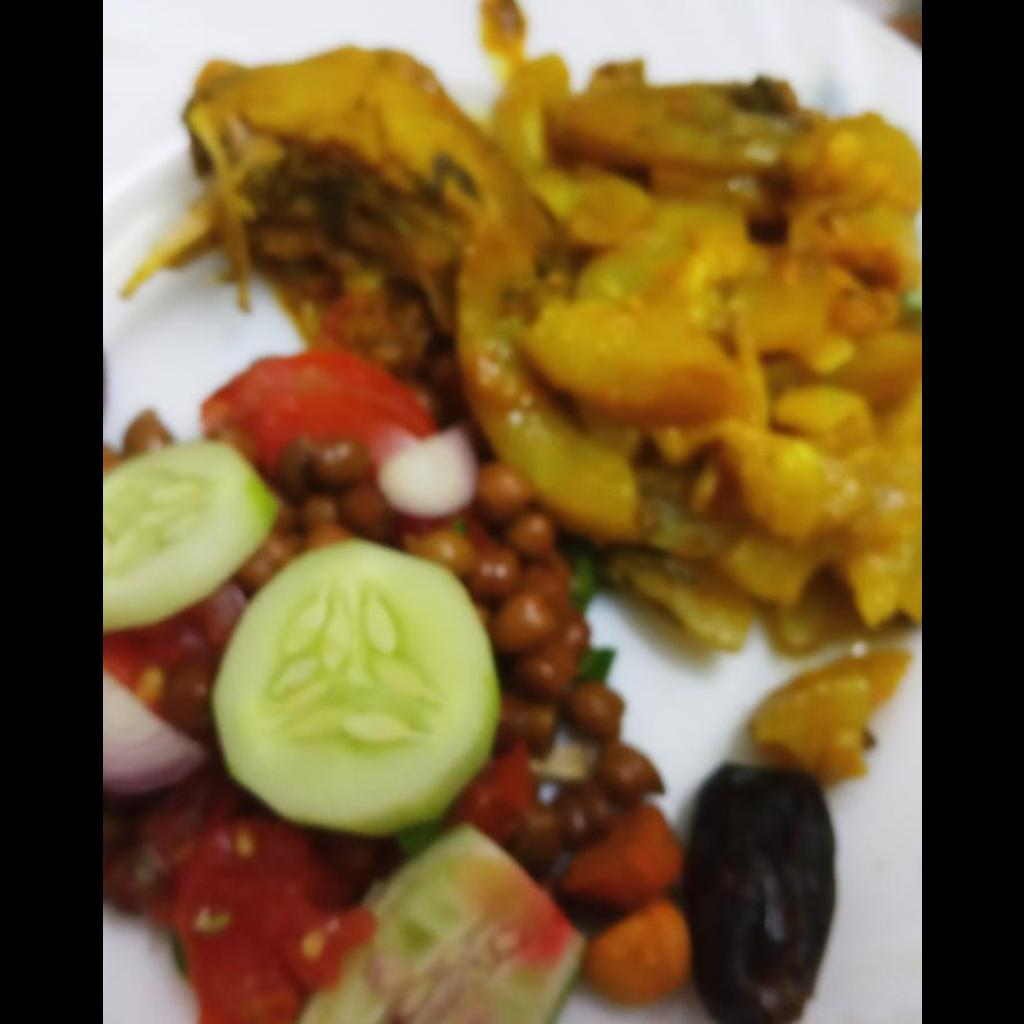chola: (202, 349, 682, 999), (102, 601, 232, 734)
cucumber: (102, 432, 493, 835)
dates: (685, 761, 843, 1014)
lemon: (298, 828, 582, 1023)
tomato: (166, 791, 373, 1023)
vegetable: (121, 0, 920, 652)
